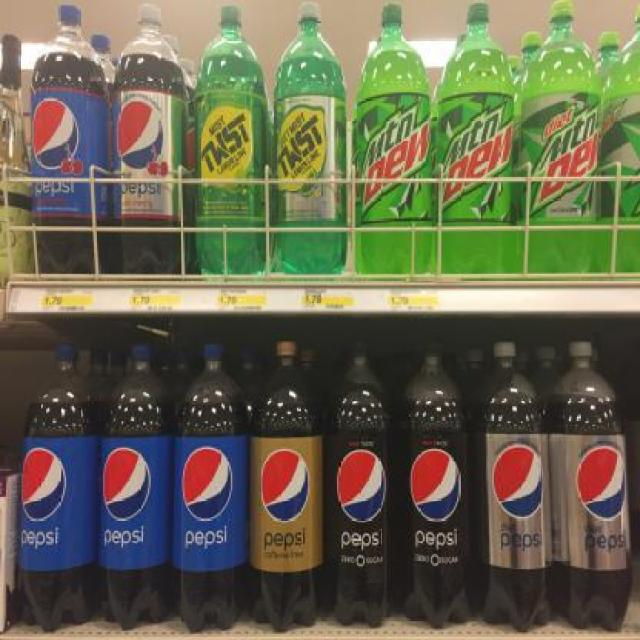Drinks: (552, 339, 632, 633), (472, 339, 552, 633), (18, 342, 98, 633), (518, 0, 602, 274), (172, 340, 248, 632), (247, 339, 322, 633), (397, 336, 472, 630), (98, 340, 173, 632), (435, 1, 514, 274), (321, 334, 394, 629), (110, 3, 188, 274), (31, 4, 108, 276), (356, 2, 432, 275)
